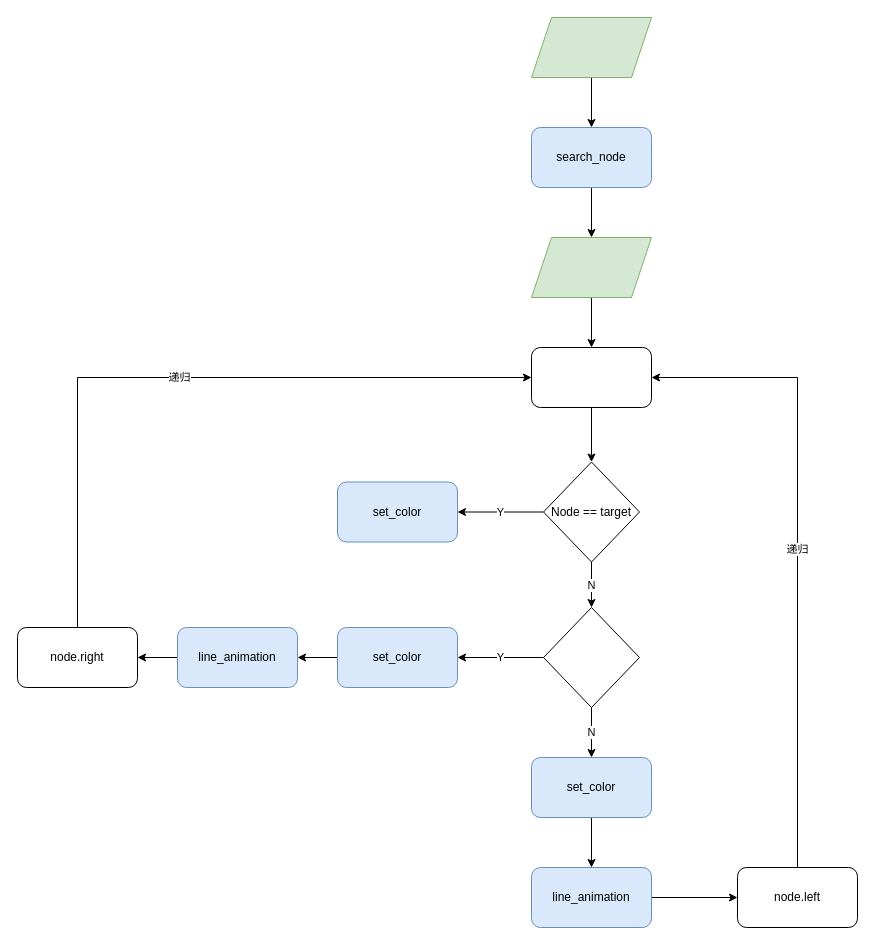
The diagram is 875 pixels wide and 945 high, and some of its shapes have lost their labels. The shapes that lost their labels are listed below. From the top down, each one's box as (x1, y1, x2, y2) in pixels, then its label:
(530, 16, 652, 78): target
(530, 236, 652, 298): Node
(530, 346, 652, 408): DFS
(542, 606, 640, 708): Node < target
